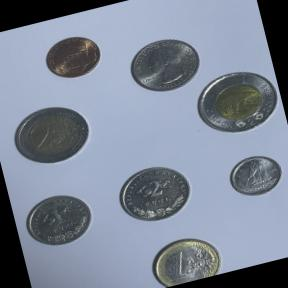1 Euro: (141, 225, 227, 288)
2 Euro: (2, 93, 100, 174)
Canda-10cent-: (220, 145, 288, 204)
Canda-2Dollar-: (189, 62, 286, 142)
Croatia-2Kune-: (110, 155, 200, 231)
US-1cent-: (38, 28, 108, 86)
US-25cent-: (121, 30, 207, 100)
